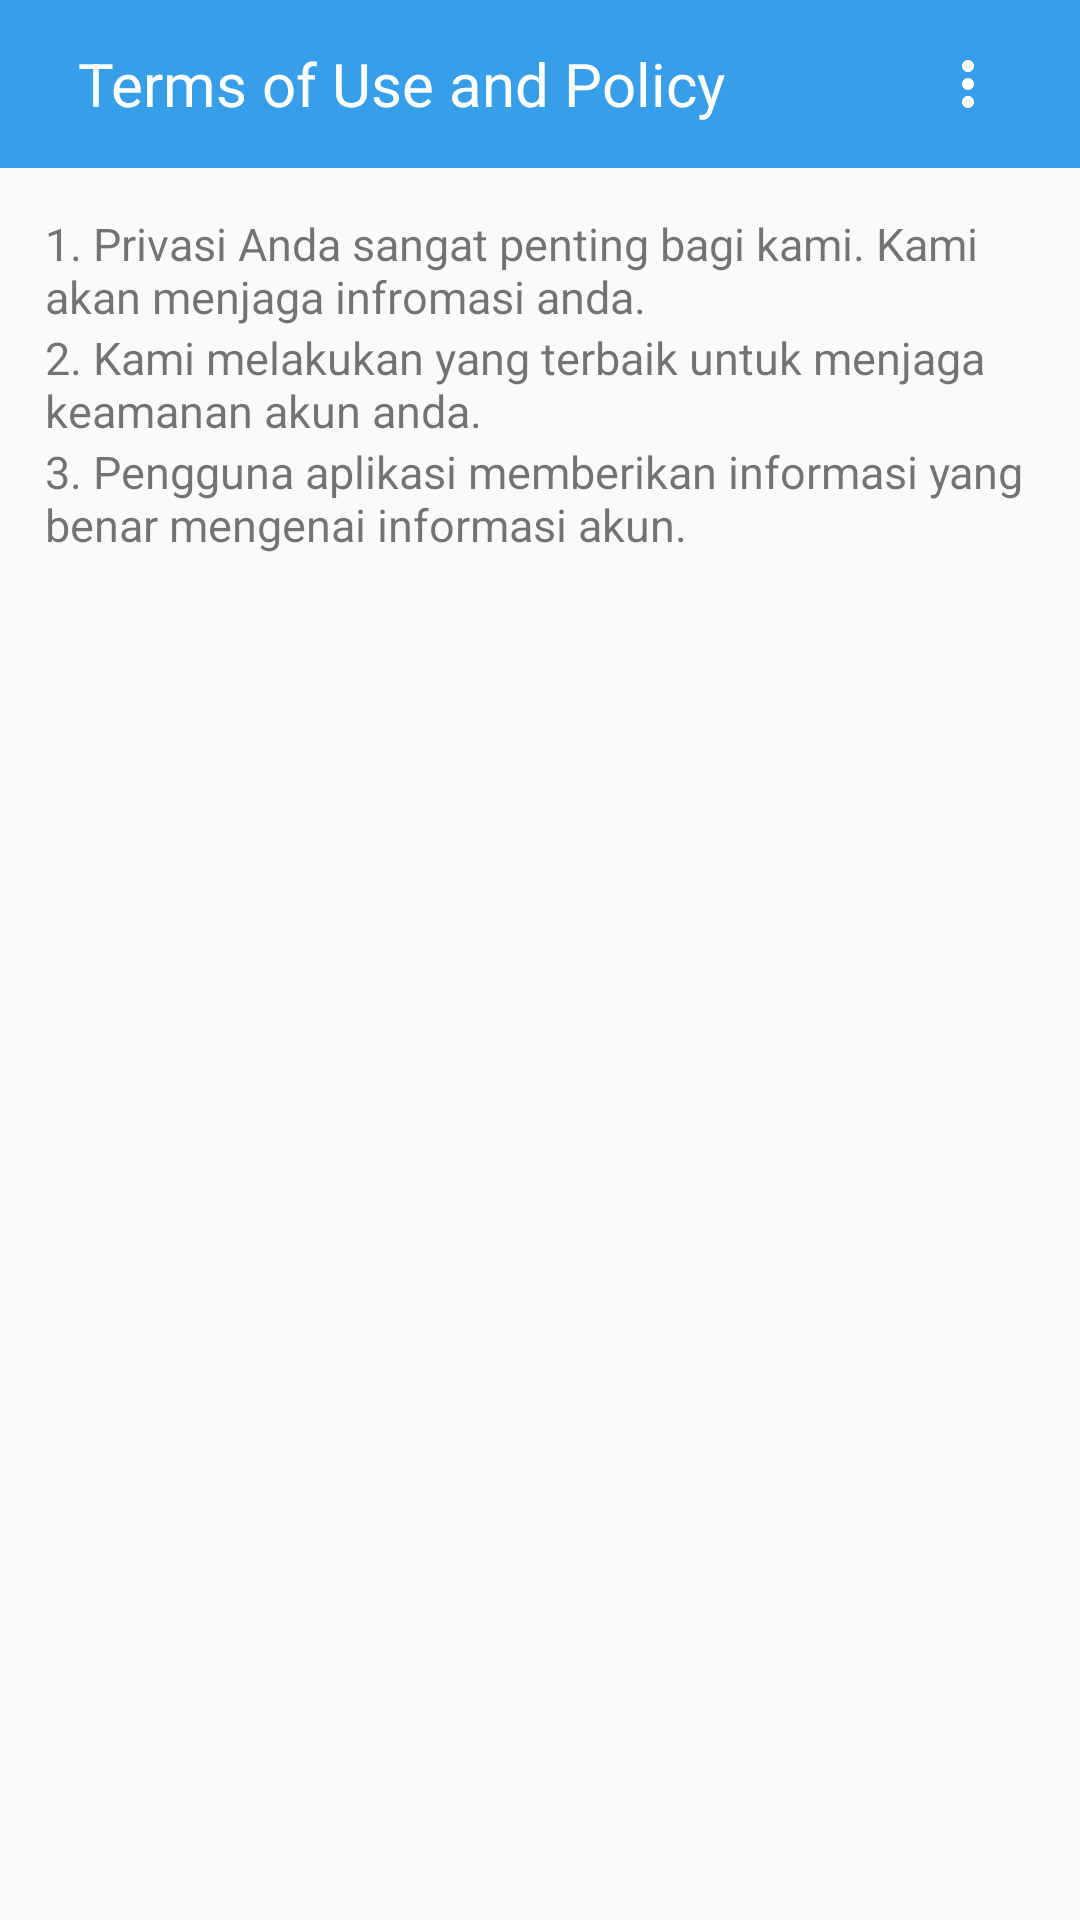

Screen size 1080x1920. Icon name, then its center in pixels as (x,y):
more vert: (968,84)
